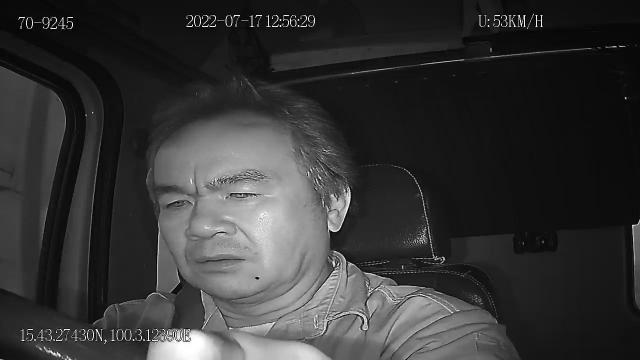SafeDriving: (216, 180, 270, 206), (154, 188, 198, 214)
Seatbelt: (168, 280, 208, 334)
